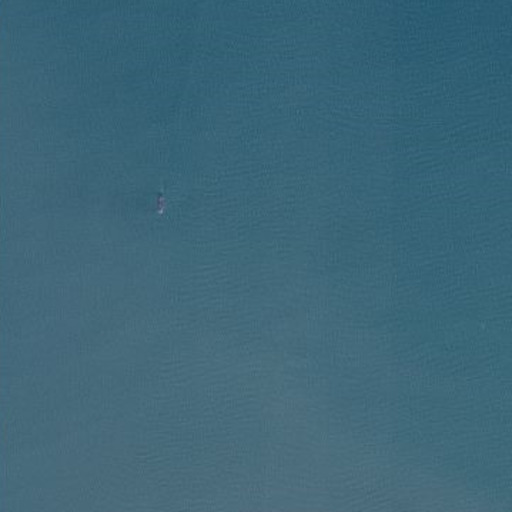ship: (154, 184, 167, 218)
